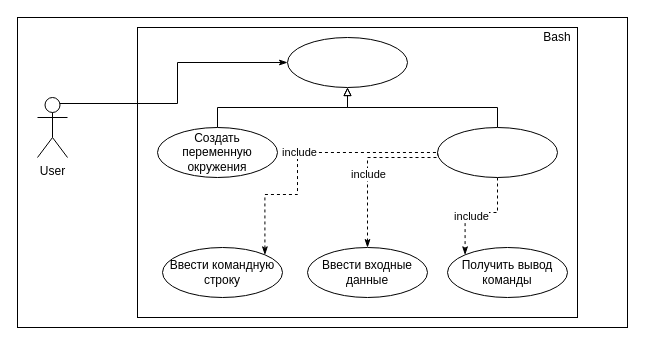
The diagram is 645 pixels wide and 345 high, and some of its shapes have lost their labels. Here are the shapes that lost their labels. From the top down, the centre of each, then its label:
At point 347,62: "Выполнить команду".
At point 497,152: "Запустить утилиту".
